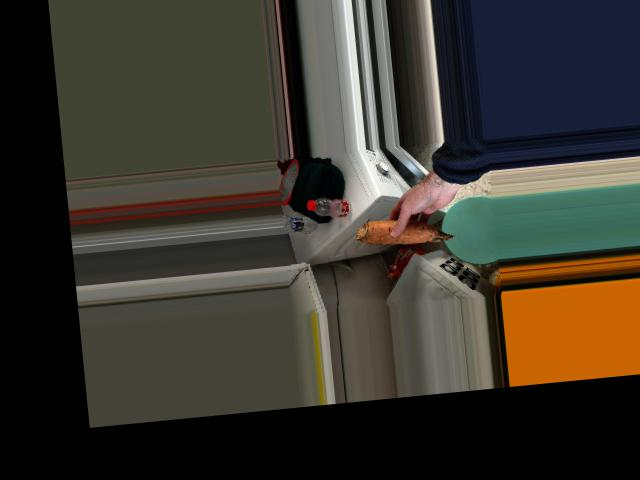sweet_potato: (361, 214, 452, 248)
